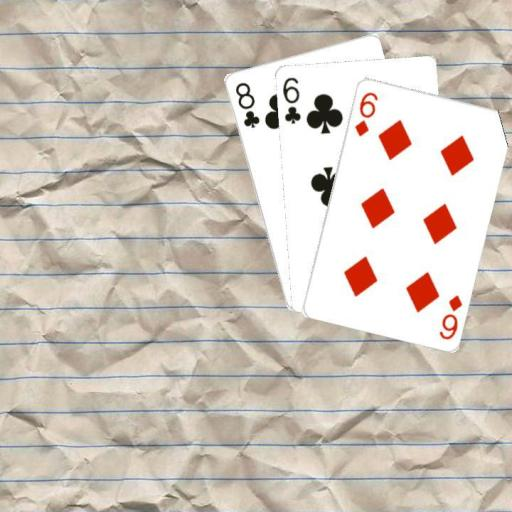6C: (279, 73, 302, 125)
6D: (351, 88, 379, 138), (436, 292, 464, 341)
8C: (232, 79, 261, 129)
